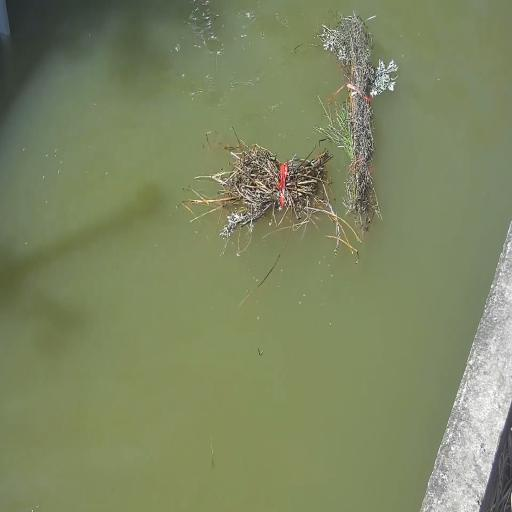twig: (320, 12, 395, 230), (221, 136, 334, 249)
